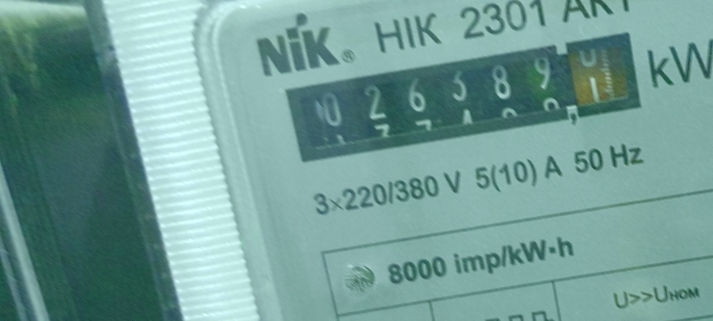0: (317, 87, 345, 129), (577, 45, 599, 68)
1: (586, 72, 603, 105)
2: (360, 80, 389, 122)
3: (447, 67, 469, 104)
6: (404, 73, 427, 114)
8: (488, 60, 514, 101)
9: (531, 54, 554, 90)
screen: (269, 18, 659, 176)
